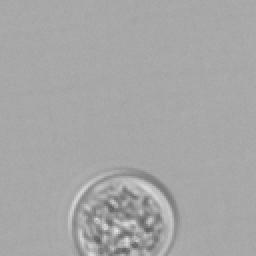picoshell: (66, 168, 176, 254)
